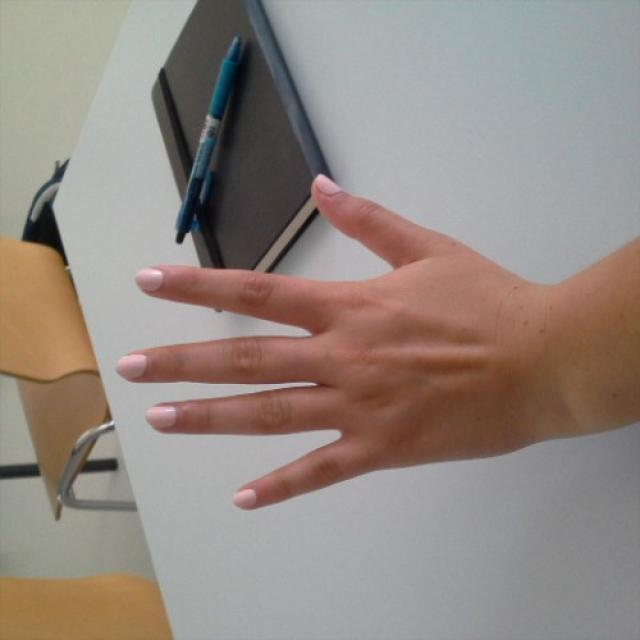paper: (113, 170, 544, 512)
